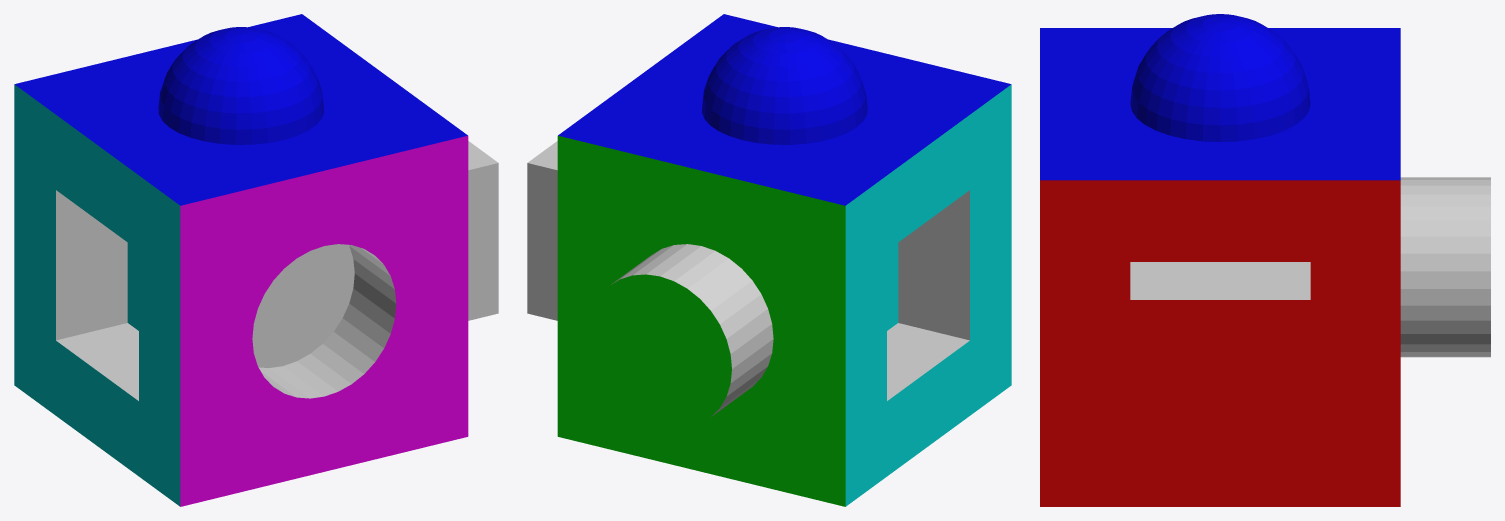
The model's file is OrientationCubeColor.dae.
3 views of the same model, side by side, from view 1: azimuth 30°, elevation 25°; view 2: azimuth 150°, elevation 25°; view 3: azimuth 270°, elevation 25° (orthographic). The views are drawn at different scales.
Parts seen in each view (by area): view 1: Cube; view 2: Cube; view 3: Cube.
Part boxes in pixels (bbox=[...]): Cube: bbox=[14, 14, 498, 506]; Cube: bbox=[527, 14, 1011, 506]; Cube: bbox=[1040, 14, 1490, 506].
Size of the model in its own units: 1.25 by 1.25 by 1.25.
